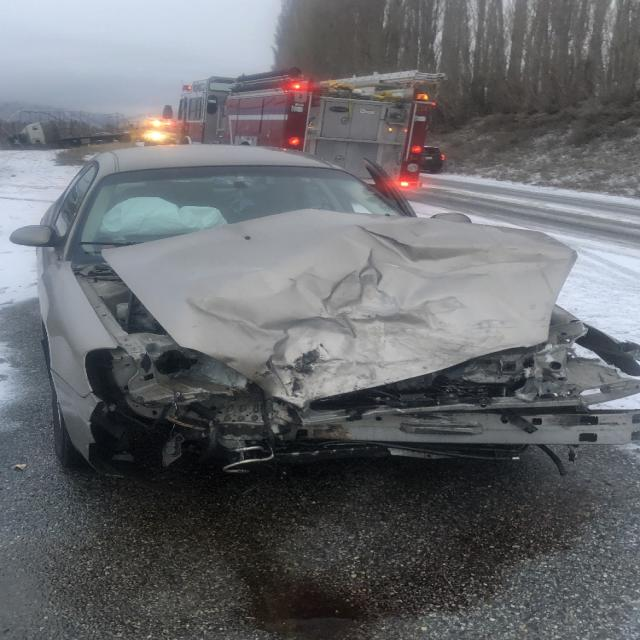Accident: (2, 130, 640, 482)
